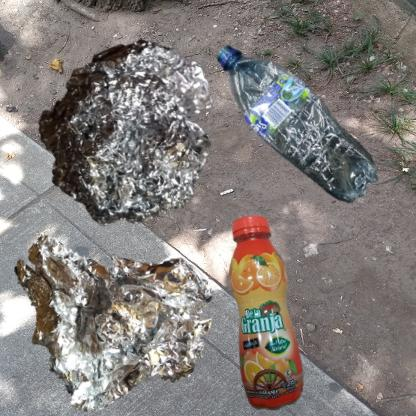aluminio: (10, 10, 262, 275), (10, 213, 229, 416)
botella: (213, 10, 416, 275), (213, 213, 326, 416)
